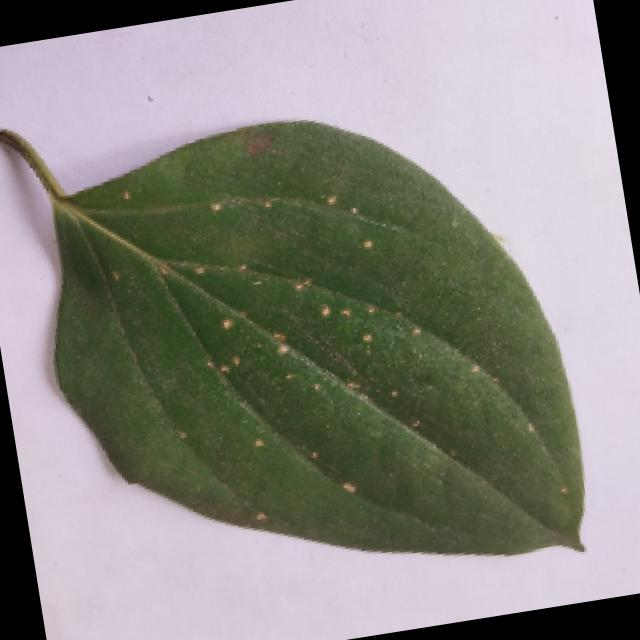pollu-disease: (0, 40, 613, 629)
